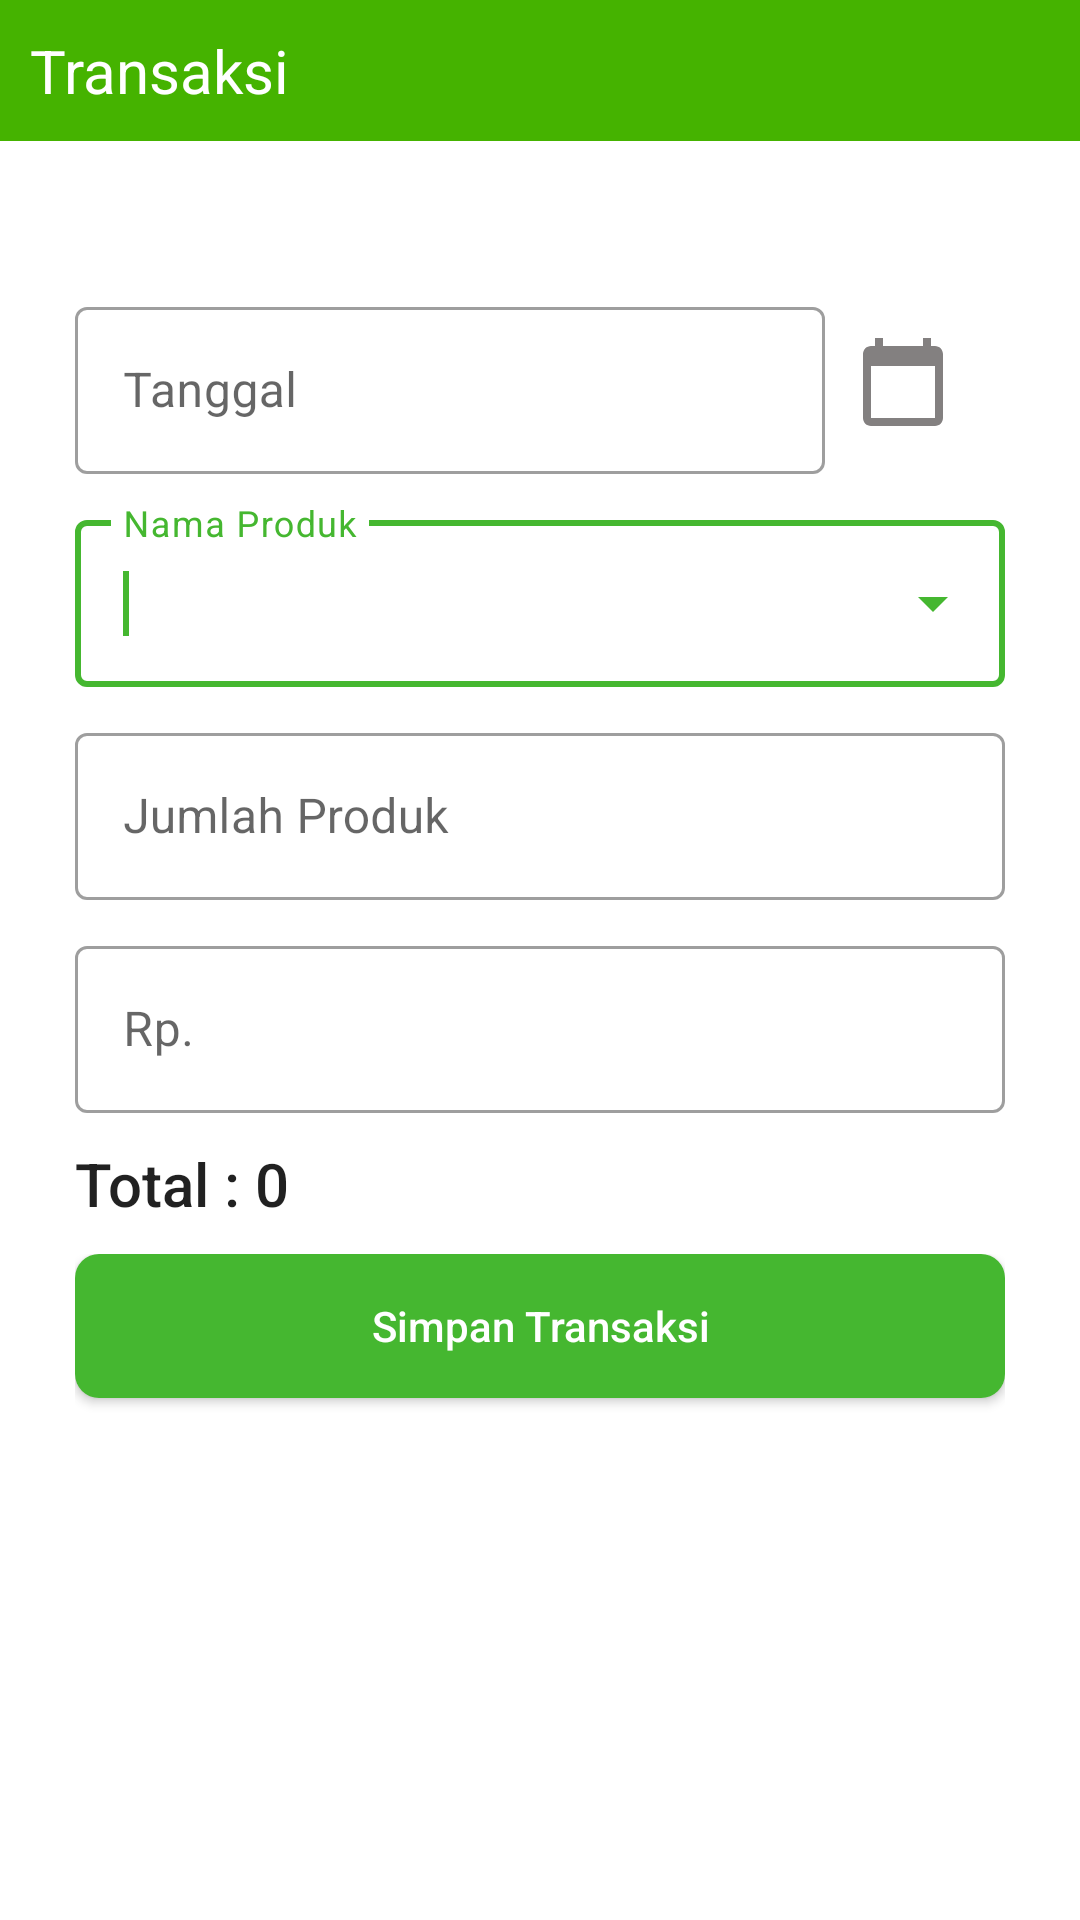

Where icons sit on this 1080×1920 app screen, as (x1, y1, x2, y2):
calendar today: (863, 338, 943, 426)
